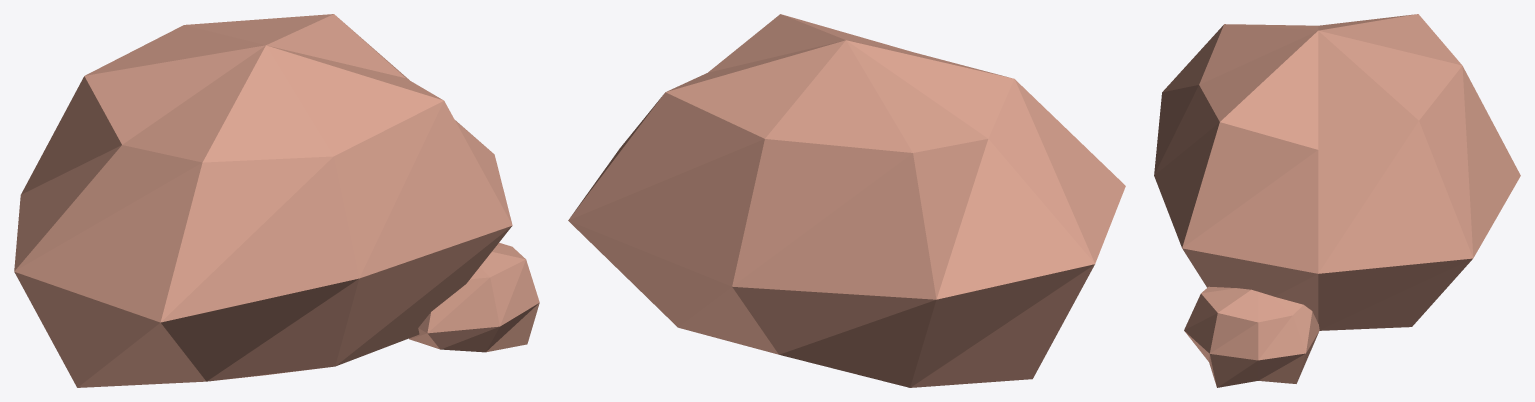
File: red_boulder.glb
3 views of the same model, side by side, from view 1: azimuth 30°, elevation 25°; view 2: azimuth 150°, elevation 25°; view 3: azimuth 270°, elevation 25° (orthographic). The views are drawn at different scales.
Visible parts, largest first — view 1: red_boulder; view 2: red_boulder; view 3: red_boulder.
Boxes of the visible parts, x1=… form: red_boulder: x1=14, y1=14, x2=539, y2=387; red_boulder: x1=568, y1=14, x2=1125, y2=387; red_boulder: x1=1154, y1=14, x2=1520, y2=387.
Bounding box in the file's own units: 2.44 × 1.6 × 1.83.
